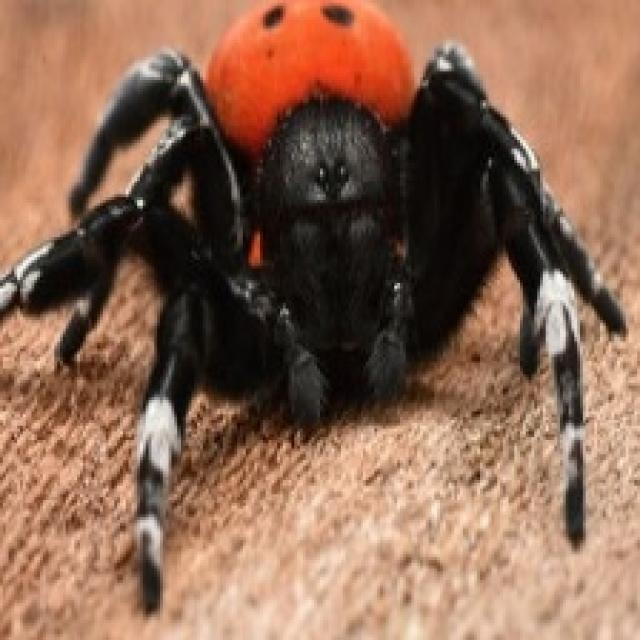Non venomous spider: (83, 0, 580, 260)
